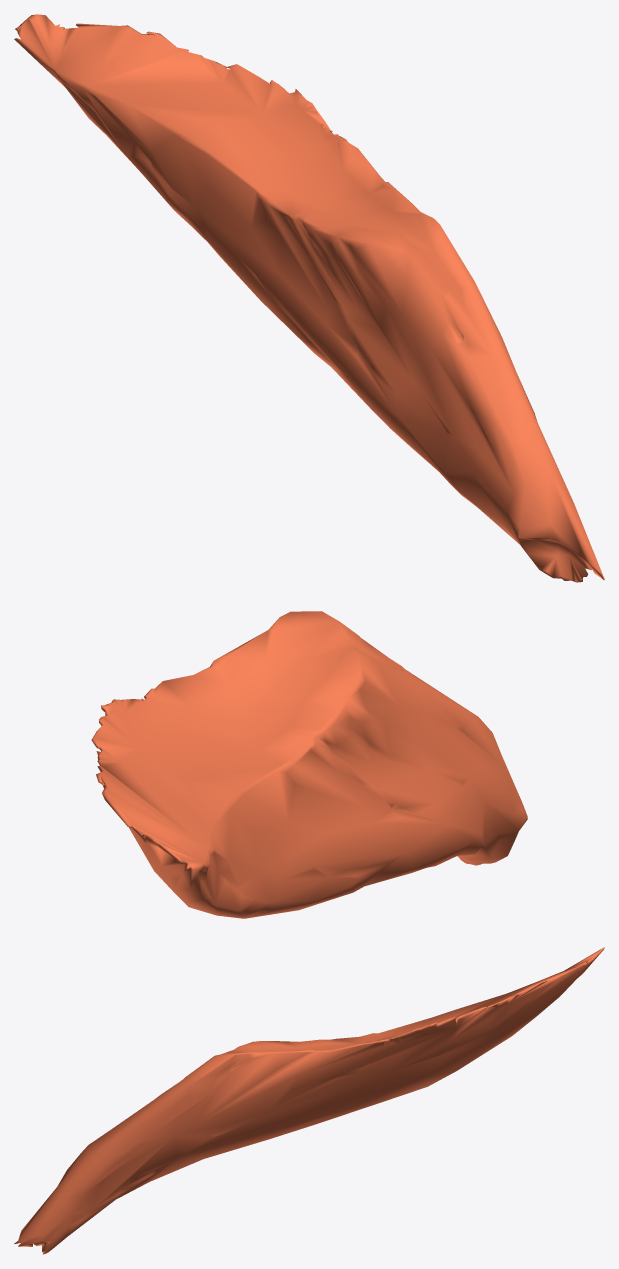
File: Obliquus_capitis_superior_left.glb
3 views of the same model, one above another, from view 1: azimuth 30°, elevation 25°; view 2: azimuth 150°, elevation 25°; view 3: azimuth 270°, elevation 25° (orthographic). The views are drawn at different scales.
Visible parts, largest first — view 1: Obliquus_superior_capitis_muscle.l_Generated_Mesh_From_X3D.3; view 2: Obliquus_superior_capitis_muscle.l_Generated_Mesh_From_X3D.3; view 3: Obliquus_superior_capitis_muscle.l_Generated_Mesh_From_X3D.3.
Boxes of the visible parts, box(x1,y1,x2,y2) form: Obliquus_superior_capitis_muscle.l_Generated_Mesh_From_X3D.3: box(14, 14, 604, 582); Obliquus_superior_capitis_muscle.l_Generated_Mesh_From_X3D.3: box(91, 611, 527, 918); Obliquus_superior_capitis_muscle.l_Generated_Mesh_From_X3D.3: box(14, 947, 604, 1254).
Bounding box in the file's own units: 0.0144 × 0.0229 × 0.0499.
